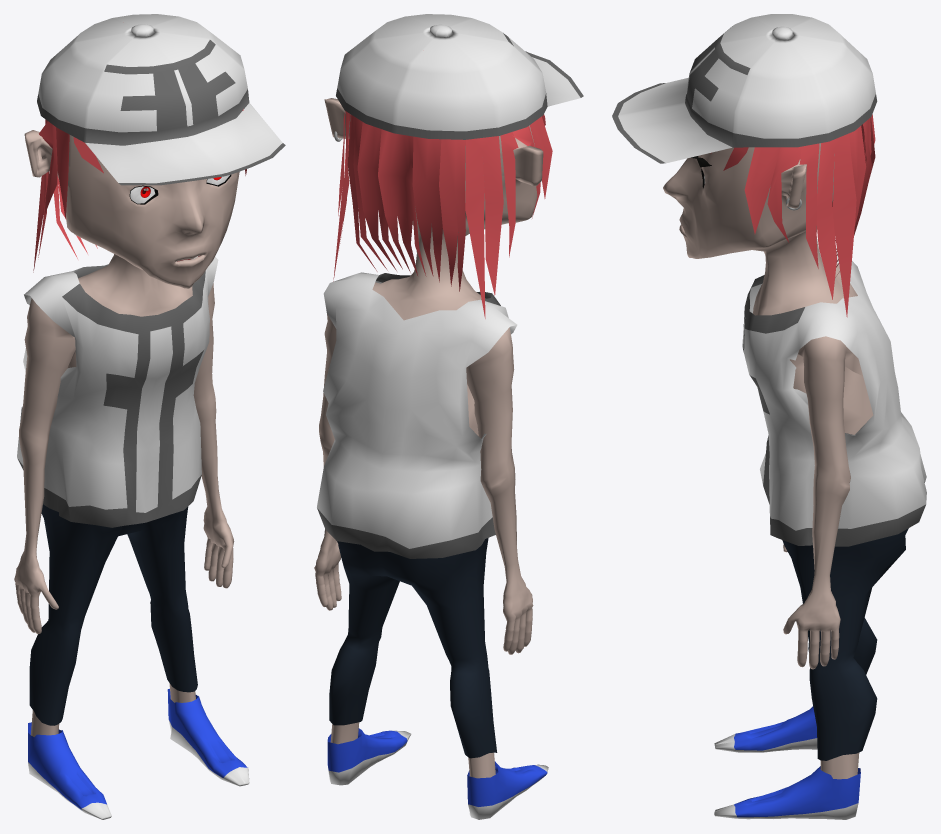
Rendered from player_olay_full.glb.
The picture shows the model from 3 angles, left to right: view 1: azimuth 30°, elevation 25°; view 2: azimuth 150°, elevation 25°; view 3: azimuth 270°, elevation 25°; orthographic projection.
Parts seen in each view (by area): view 1: OlayCap; view 2: OlayCap; view 3: OlayCap.
Part boxes in pixels (x1=…): OlayCap: x1=14, y1=14, x2=285, y2=819; OlayCap: x1=314, y1=14, x2=583, y2=819; OlayCap: x1=612, y1=14, x2=926, y2=819.
Size of the model in its own units: 0.5684 by 1.9 by 0.7192.
14 materials, 1 textured.
